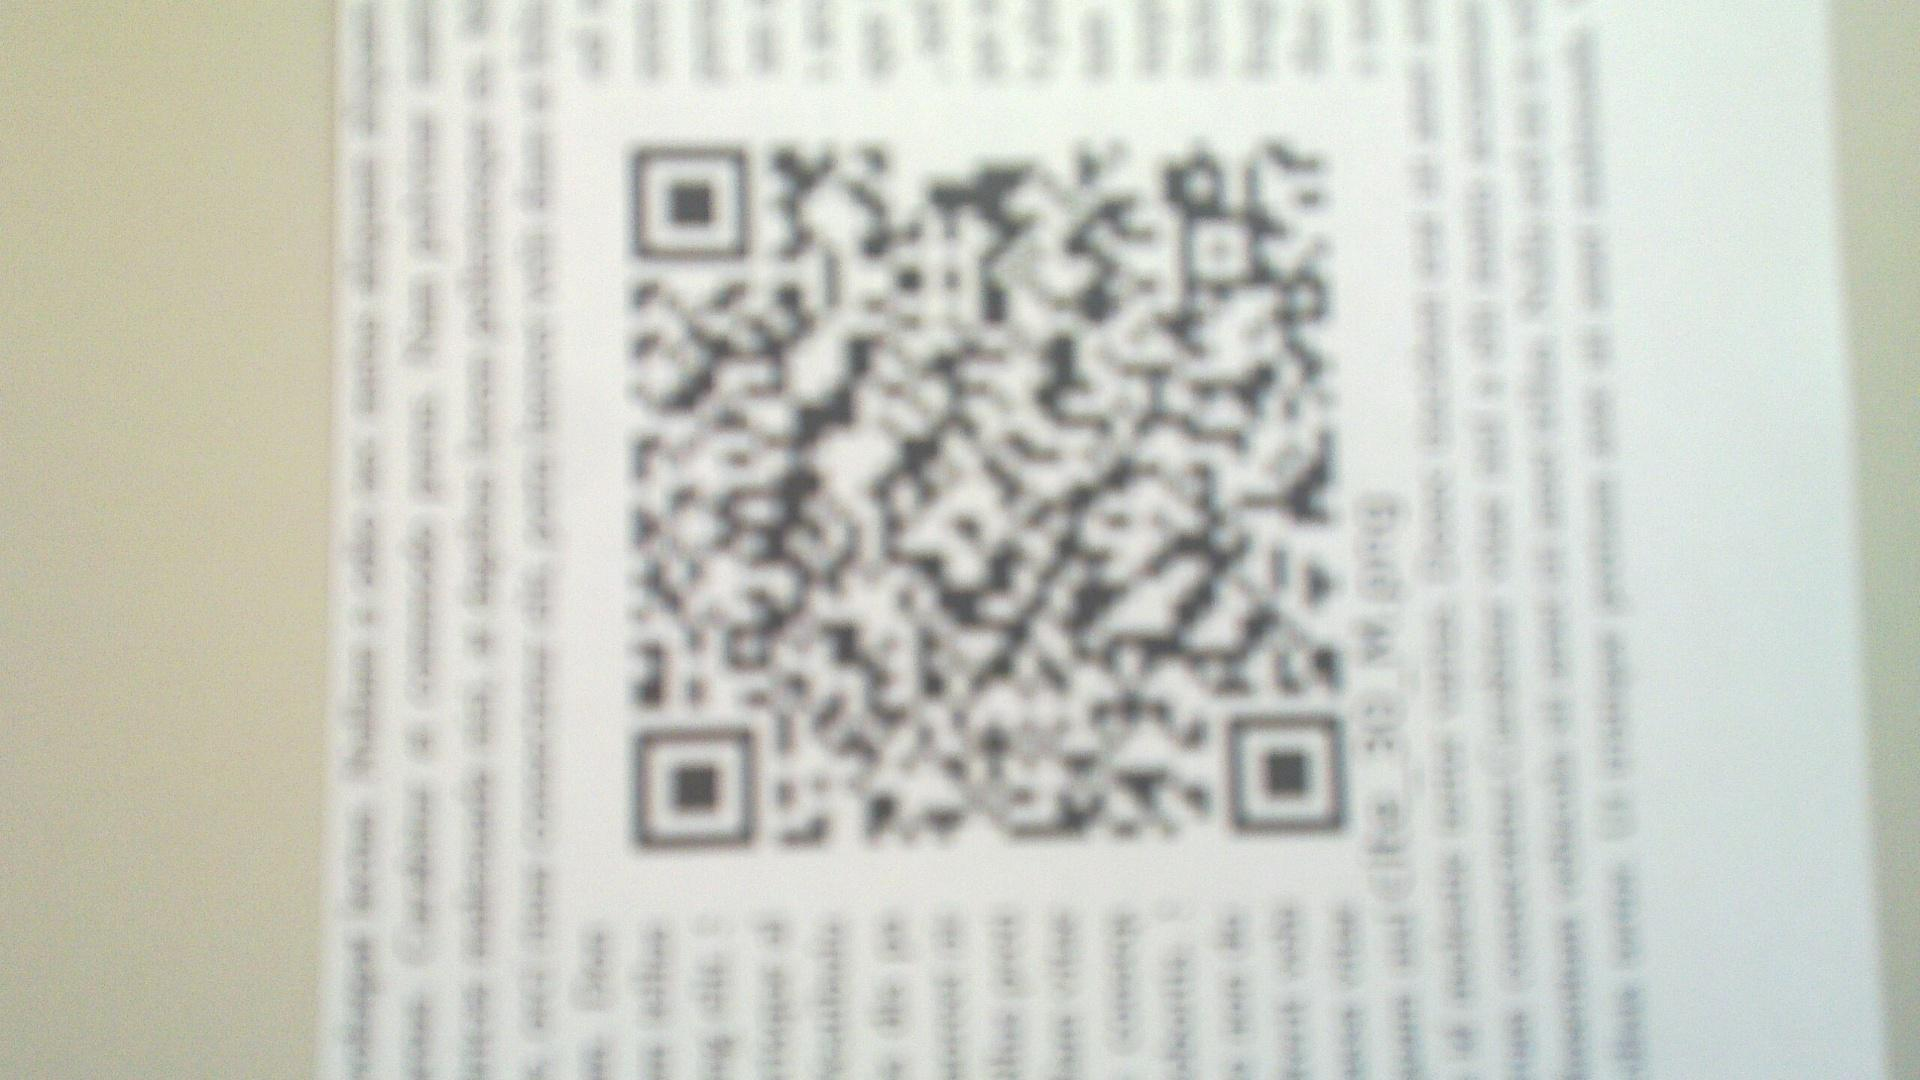Finder pattern: (1217, 704, 1356, 839), (629, 720, 760, 855), (621, 138, 758, 266)
